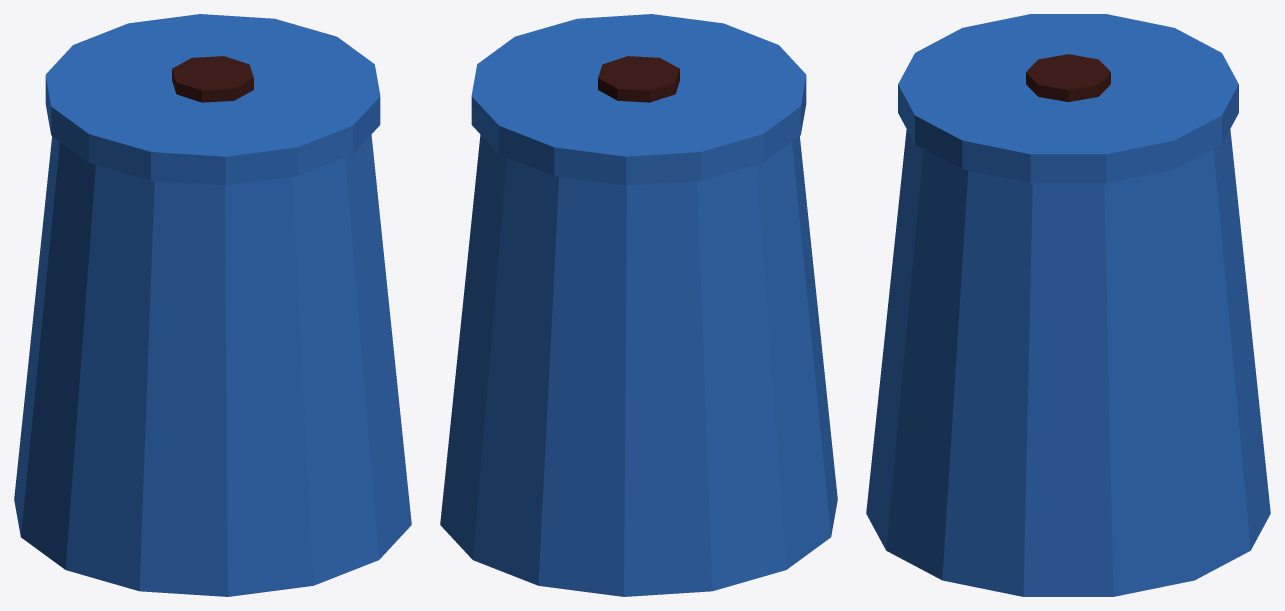
Rendered from plastic_stool_blue.glb.
3 renders of one model, left to right at view 1: azimuth 30°, elevation 25°; view 2: azimuth 150°, elevation 25°; view 3: azimuth 270°, elevation 25°, orthographic.
Parts seen in each view (by area): view 1: plastic_stool_blue; view 2: plastic_stool_blue; view 3: plastic_stool_blue.
Boxes of the visible parts, x1,y1,x2,y2 form: plastic_stool_blue: (14,14,411,596); plastic_stool_blue: (440,14,837,596); plastic_stool_blue: (866,14,1270,596).
Bounding box in the file's own units: 0.3705 × 0.4575 × 0.38.
